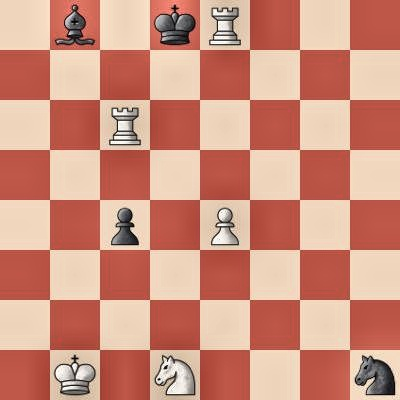black-bishop: (50, 0, 100, 50)
black-king: (150, 0, 200, 50)
black-knight: (350, 350, 400, 400)
black-pawn: (100, 200, 150, 250)
white-king: (50, 350, 100, 400)
white-knight: (150, 350, 200, 400)
white-pawn: (200, 200, 250, 250)
white-rook: (200, 0, 250, 50), (100, 100, 150, 150)
